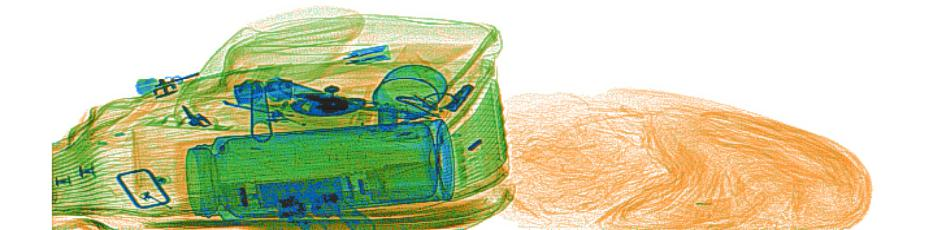battery: (252, 174, 347, 211)
